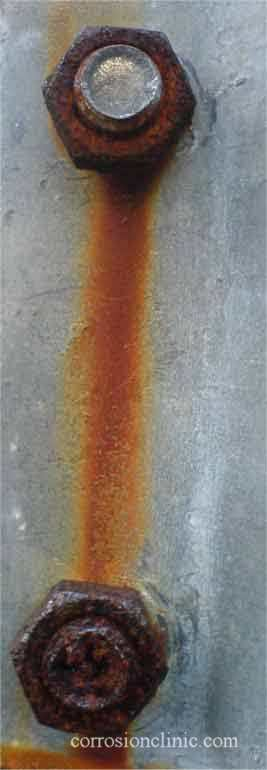rust: (23, 23, 194, 731)
